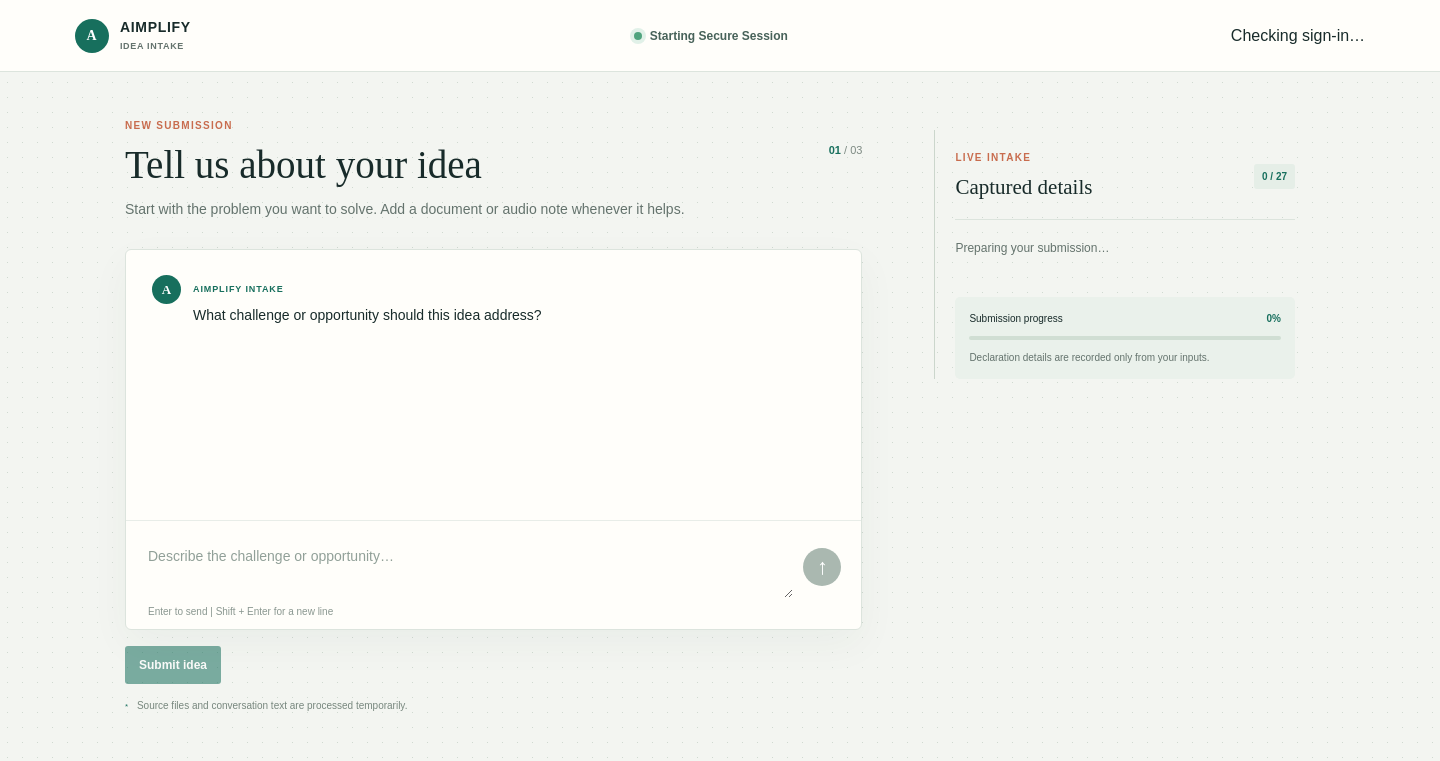
Test: safety notices › reuses one request ID when a WebSocket operation falls back to HTTP
Type "A qualitative request." into the text box named "message". click: (469, 567)
box: [144,536,793,598]
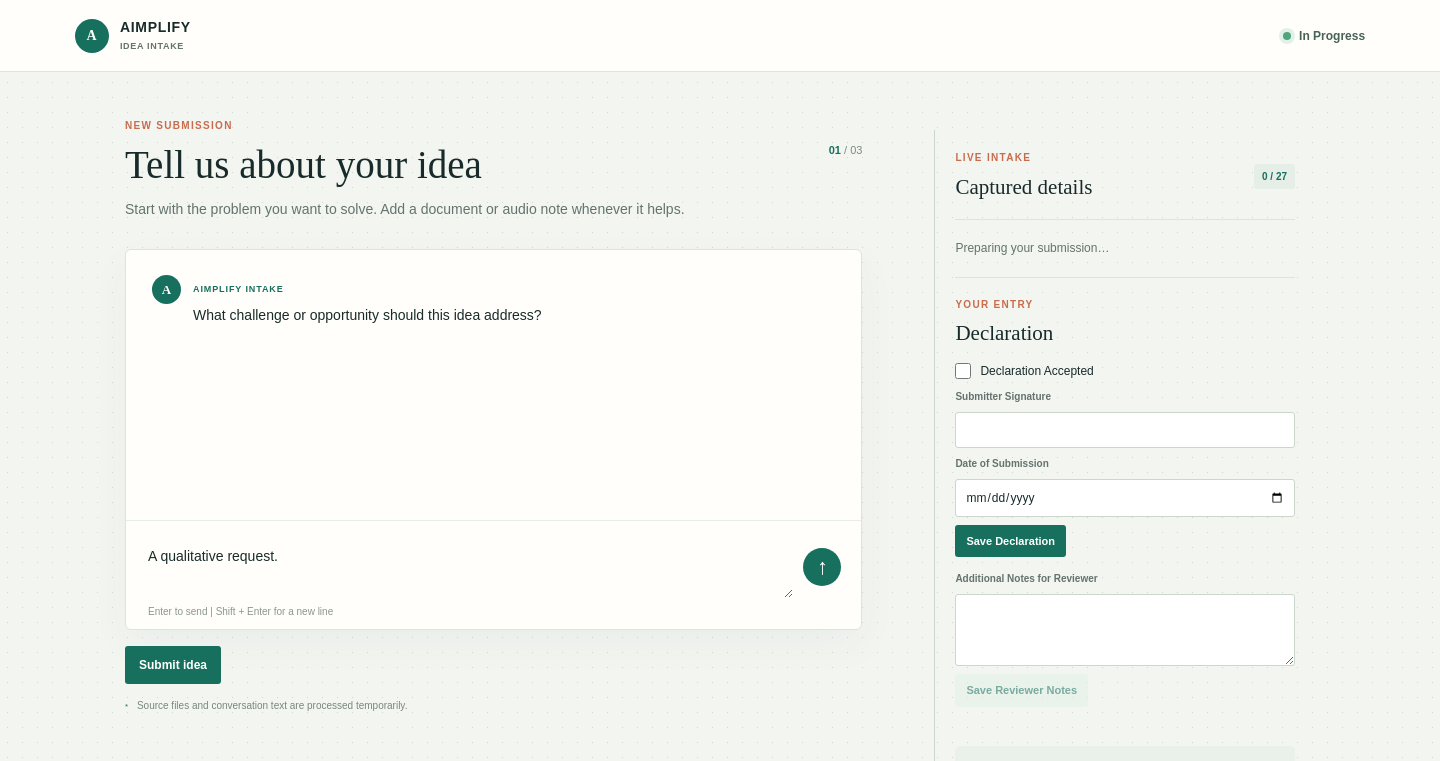
Click the button named "send". click: (822, 567)
box: [803,548,841,586]
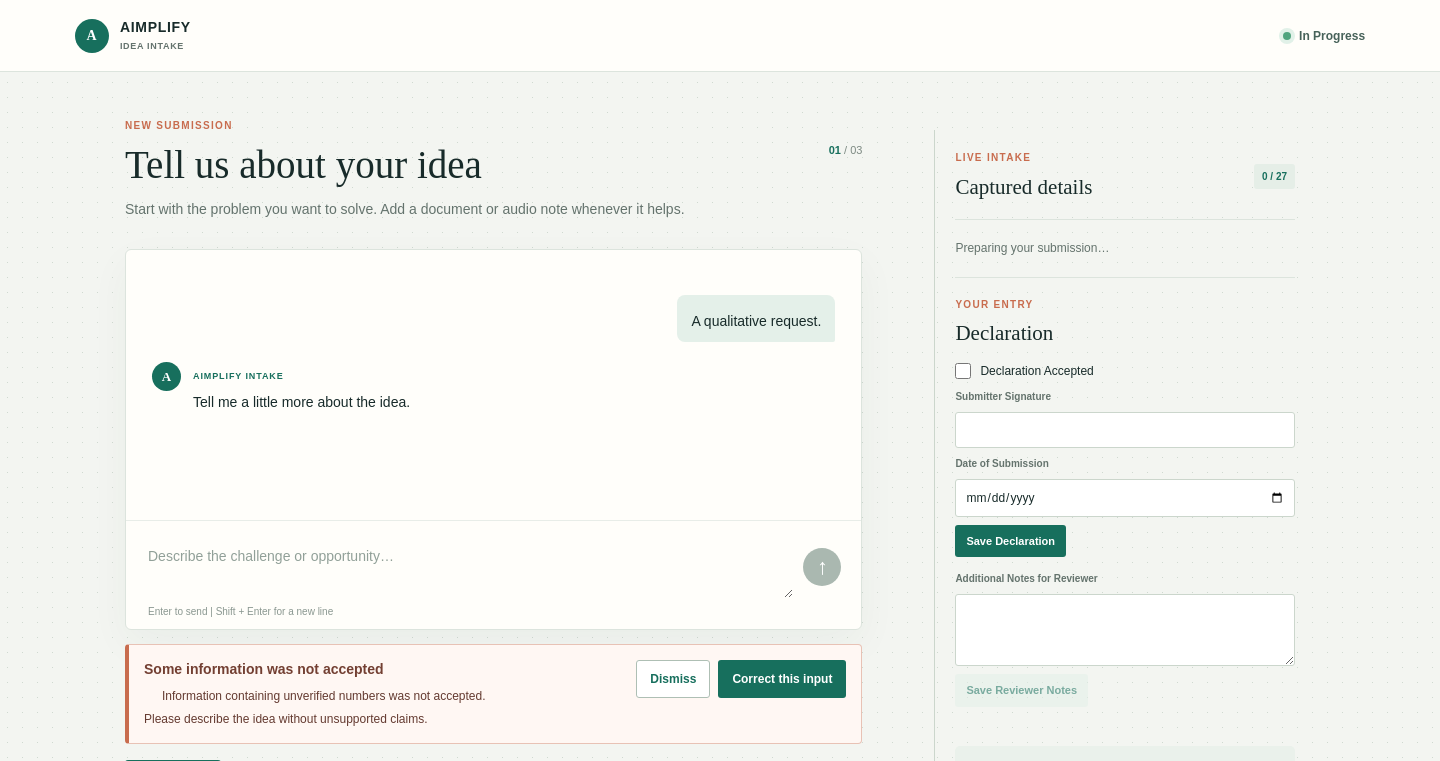
Expected: the message is shown, [125,644,862,744]
Click the button "Correct this input". click: (782, 679)
box: [718,660,846,698]
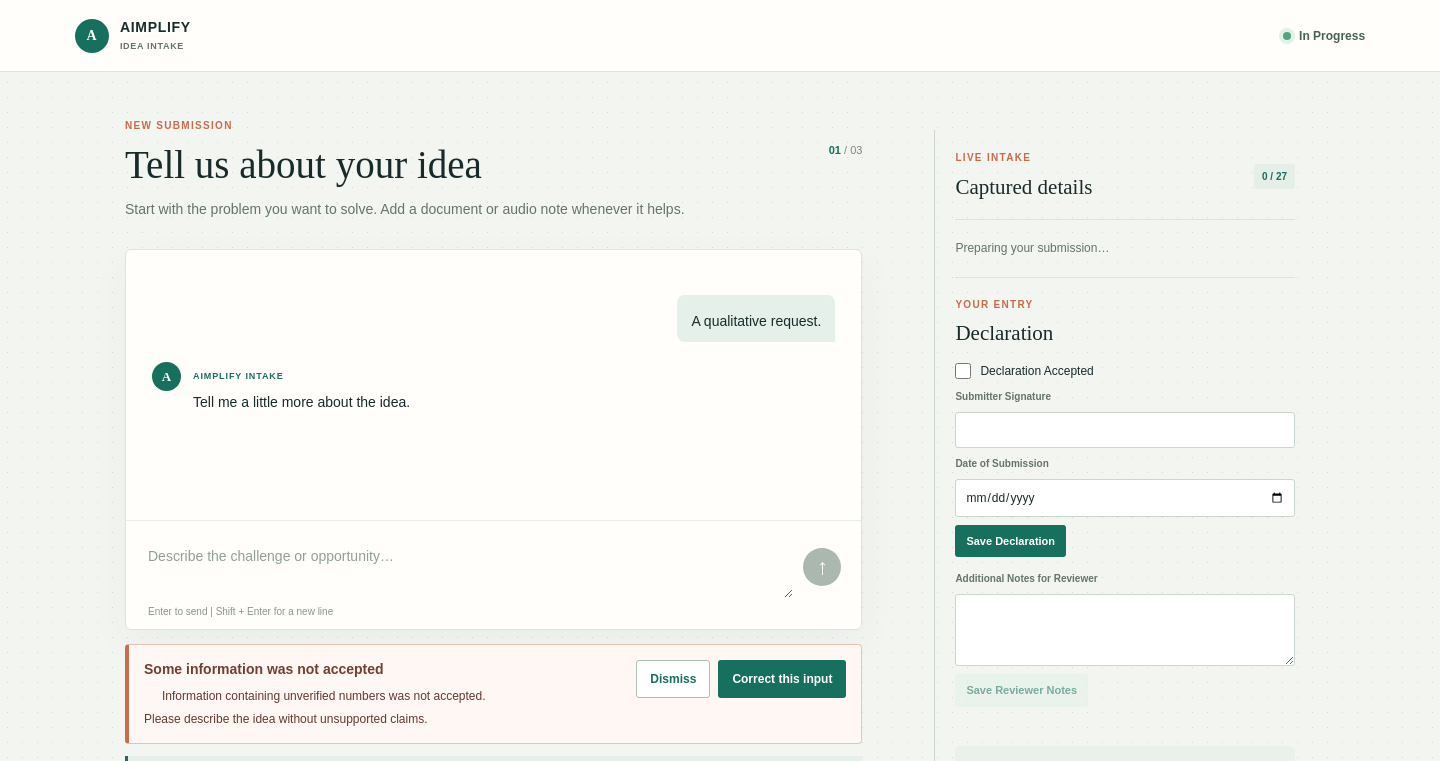
Type "Linked correction" into the text box named "Message". click: (469, 567)
box: [144,536,793,598]
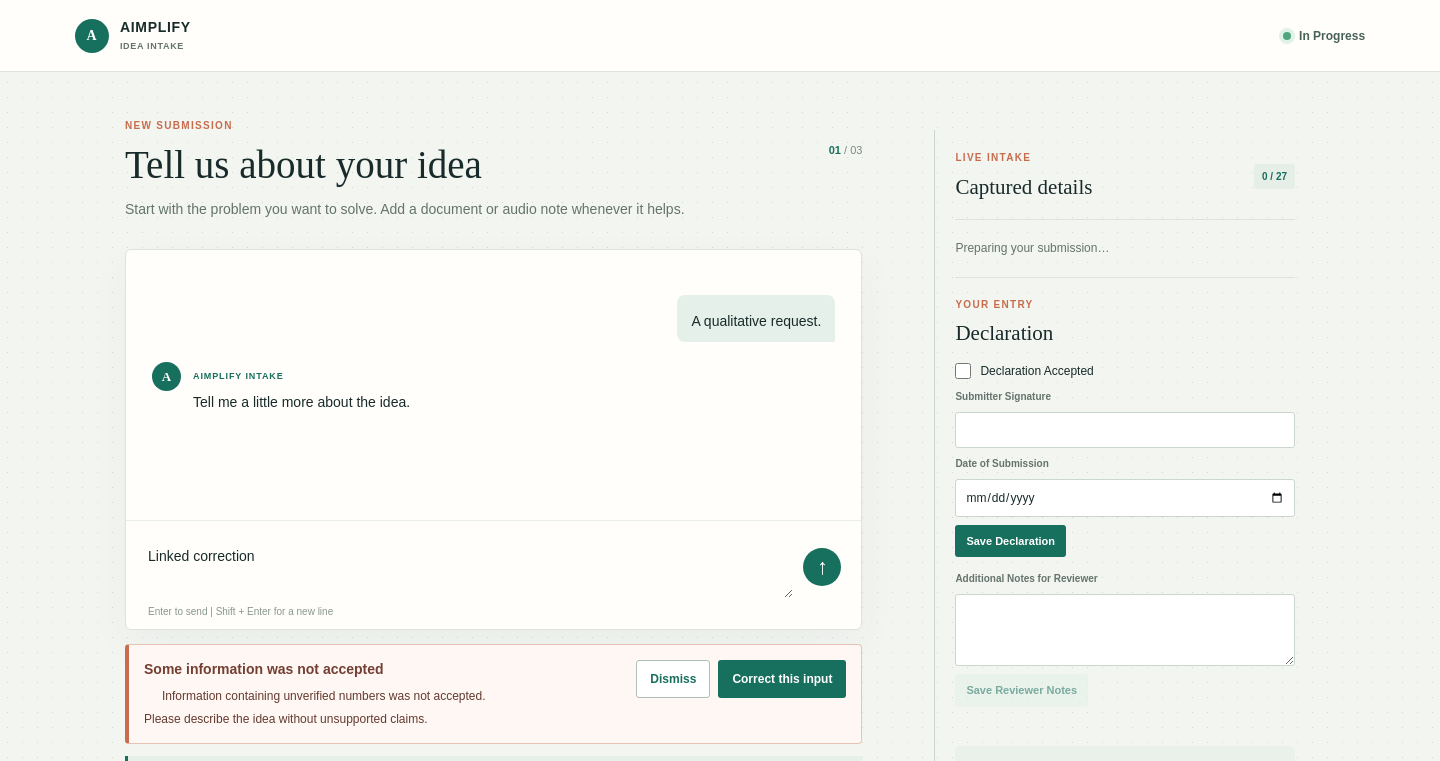
Click the button named "Send". click: (822, 567)
box: [803,548,841,586]
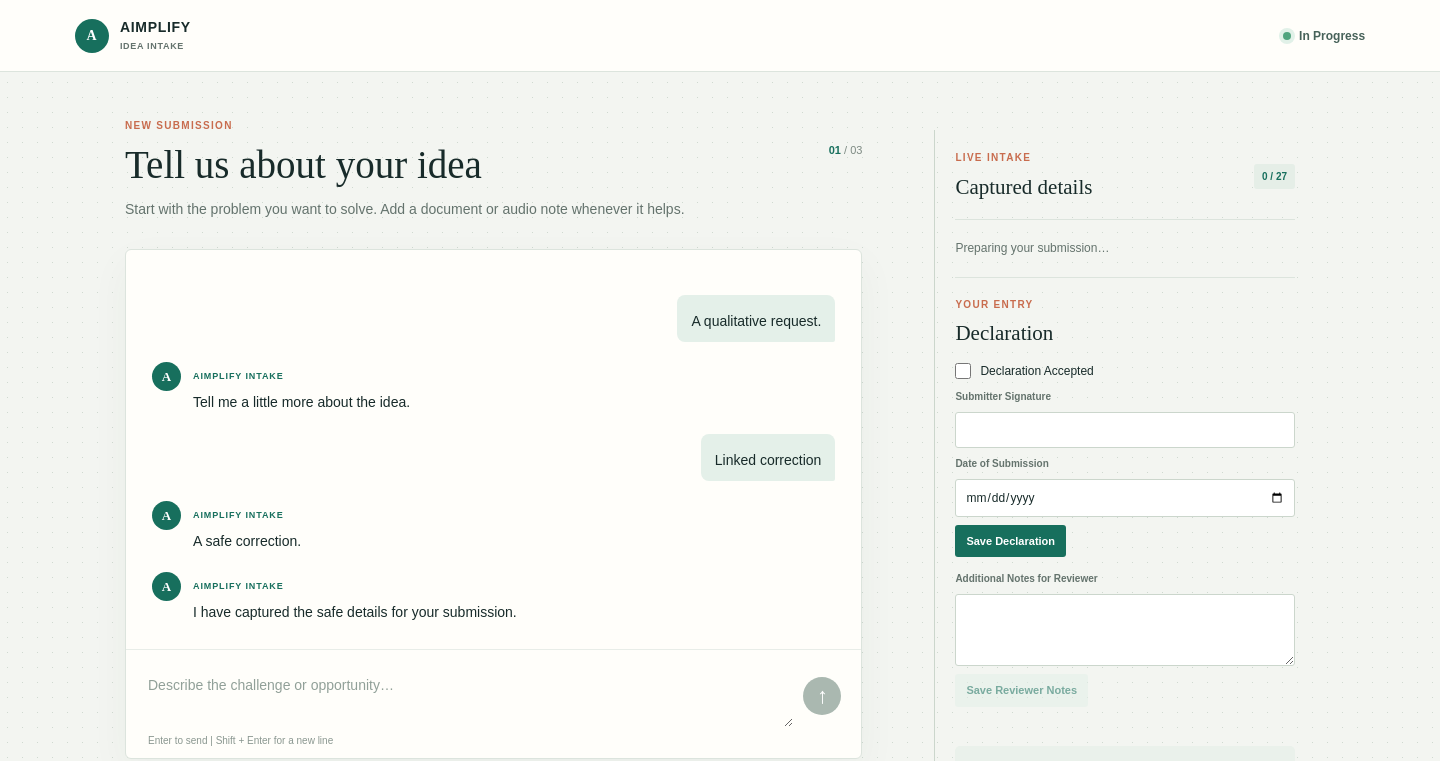
Expected: the message "Some information was not accepted Information containing unverified numbers was" is gone
